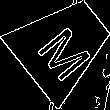M_NE: (30, 11, 96, 78)
